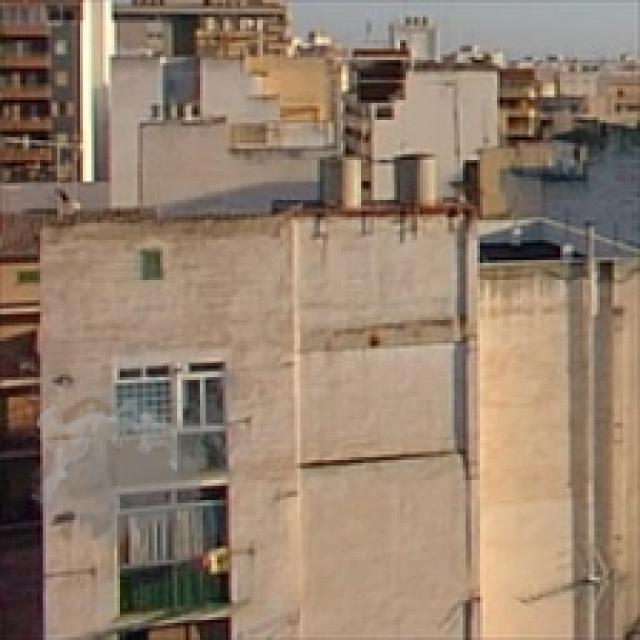smoke: (28, 337, 245, 563)
